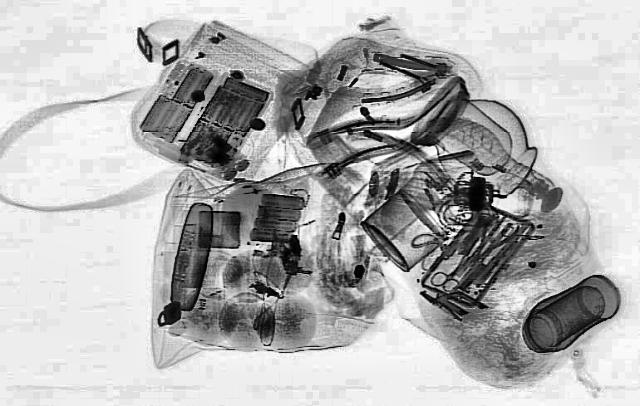Pliers: (454, 213, 526, 268)
Scissors: (425, 251, 481, 291)
